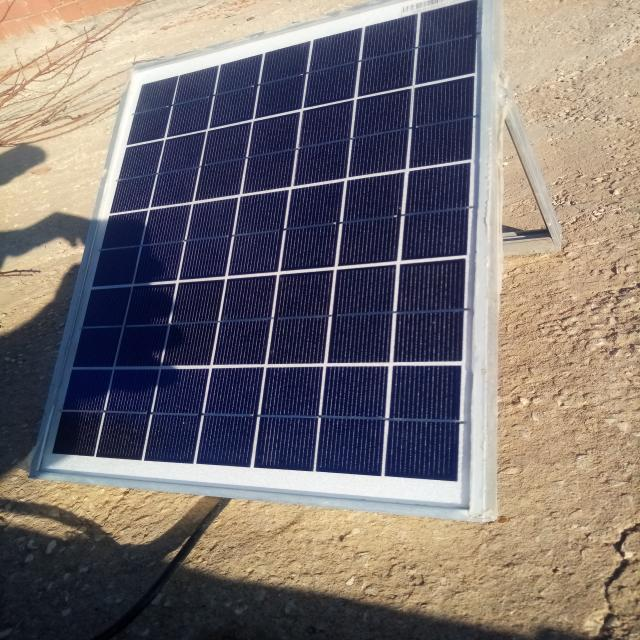Normal Solar Panel: (33, 0, 488, 515)
